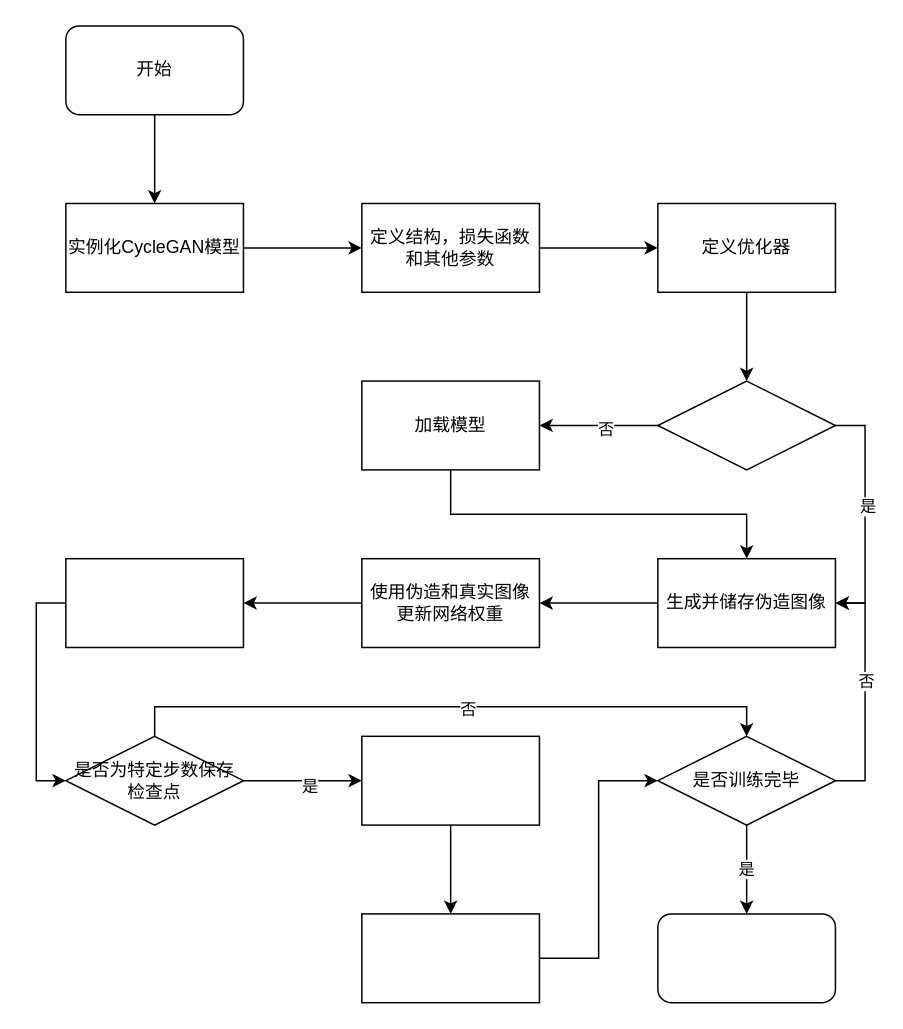
The diagram is 903 pixels wide and 1029 high, and some of its shapes have lost their labels. The centre of each missing label's shape, as x and y in pixels:
"保存检查点" goes at pixel 449 780.
"写入日志" goes at pixel 449 957.
"是否初次训练" goes at pixel 745 425.
"结束" goes at pixel 745 957.
"计算损失" goes at pixel 153 602.
